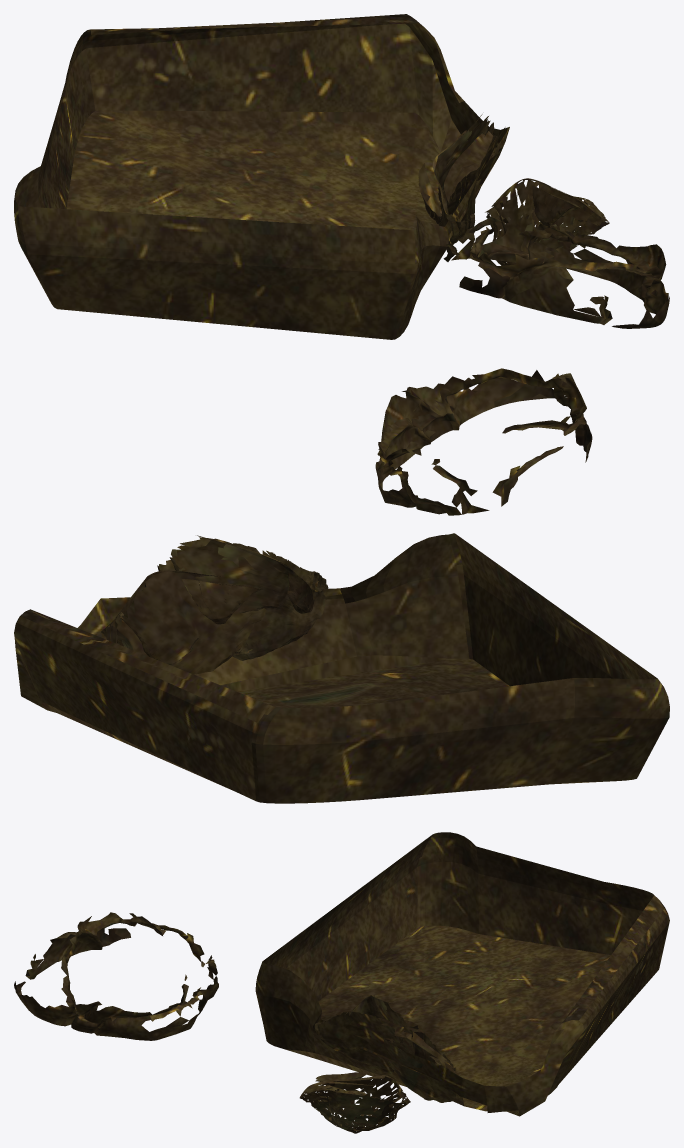
File: GrassTerrain_004_Mud_B_v3.glb
3 renders of one model, top to bottom at view 1: azimuth 30°, elevation 25°; view 2: azimuth 150°, elevation 25°; view 3: azimuth 270°, elevation 25°, orthographic. The views are drawn at different scales.
Parts seen in each view (by area): view 1: 立方体.004_Mud_B; view 2: 立方体.004_Mud_B; view 3: 立方体.004_Mud_B.
Part boxes in pixels (x1,y1,x2,y2): 立方体.004_Mud_B: [14, 14, 669, 339]; 立方体.004_Mud_B: [14, 368, 669, 803]; 立方体.004_Mud_B: [14, 832, 669, 1133].
Size of the model in its own units: 736 by 256 by 1016.
Materials: 1 (1 with a texture image).
